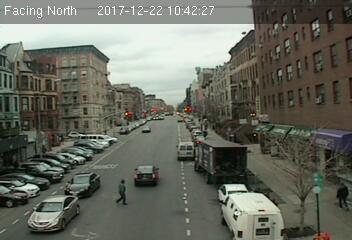car: (26, 193, 79, 234), (63, 171, 101, 199), (217, 180, 248, 201), (133, 164, 159, 185), (141, 125, 151, 134)
pedestrian: (330, 178, 352, 210), (114, 177, 129, 207)
truck: (219, 192, 290, 240), (193, 137, 247, 182), (176, 141, 197, 161)
